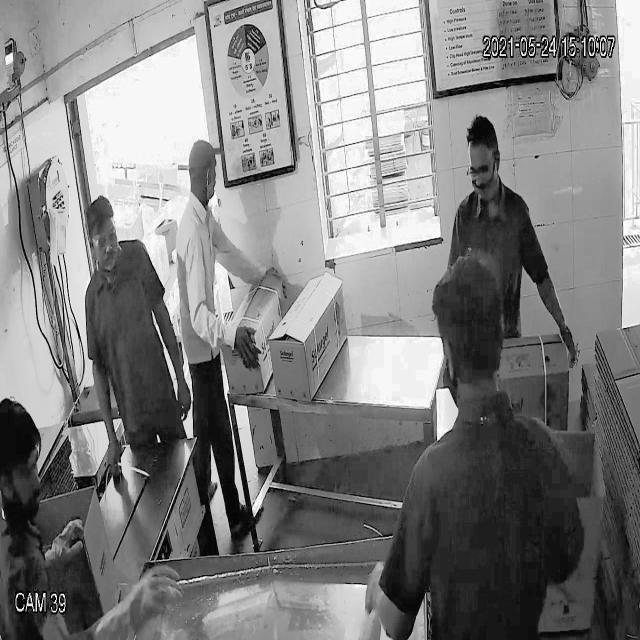glasses: (86, 223, 120, 253)
